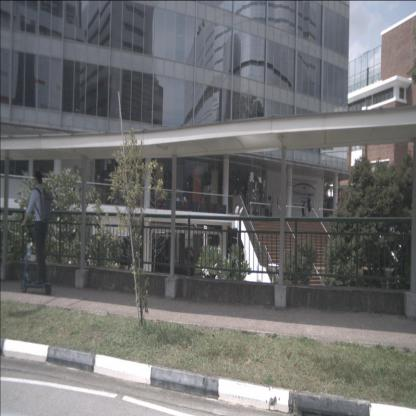human-pedestrian-adult: (307, 194, 312, 218), (183, 194, 187, 210), (176, 195, 180, 210)
vehicle-car: (182, 250, 194, 262)
